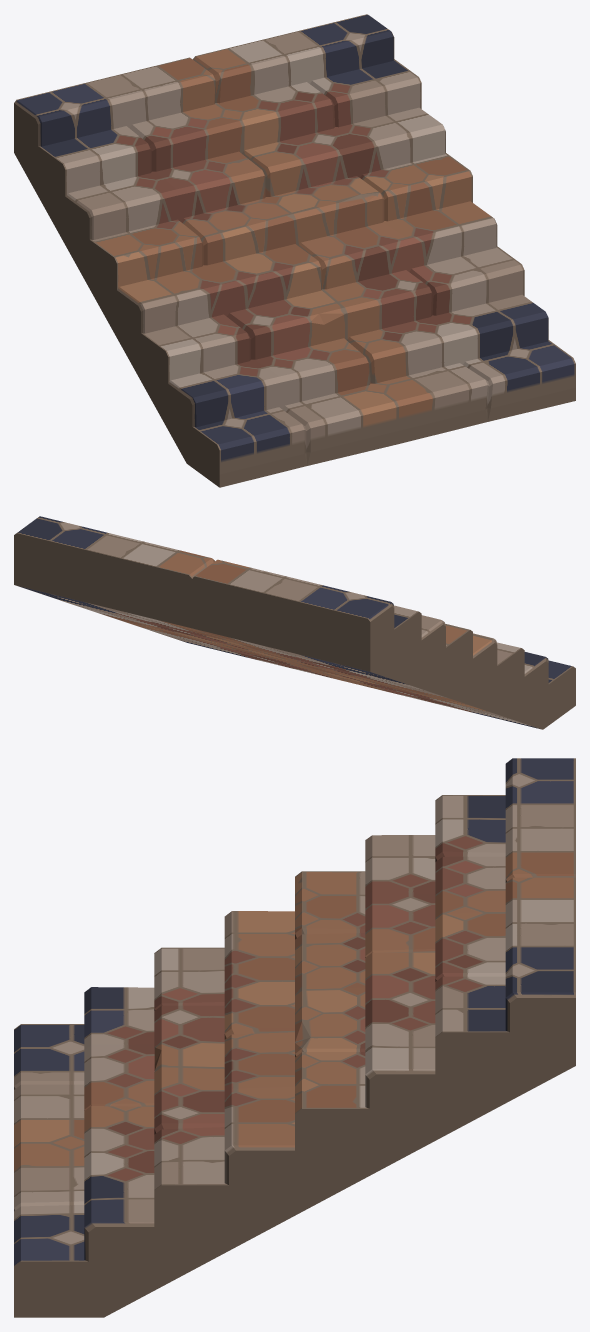
Rendered from SM_Bld_Stairs_01.fbx.
3 views of the same model, one above another, from view 1: azimuth 30°, elevation 25°; view 2: azimuth 150°, elevation 25°; view 3: azimuth 270°, elevation 25° (orthographic). The views are drawn at different scales.
Visible parts, largest first — view 1: SM_Bld_Stairs_01; view 2: SM_Bld_Stairs_01; view 3: SM_Bld_Stairs_01.
Part boxes in pixels (bbox=[...]): SM_Bld_Stairs_01: bbox=[14, 14, 575, 487]; SM_Bld_Stairs_01: bbox=[14, 516, 575, 729]; SM_Bld_Stairs_01: bbox=[14, 758, 575, 1317].
Size of the model in its own units: 250 by 159 by 250.
